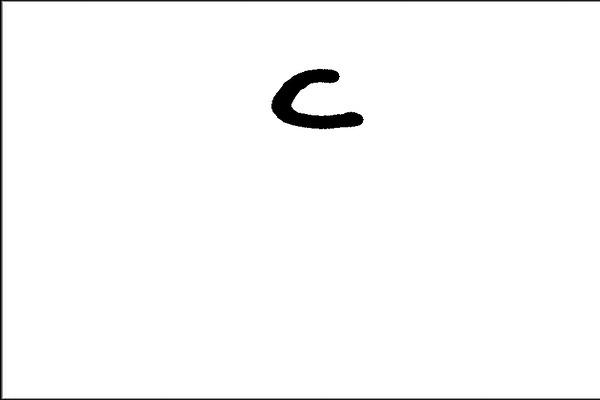C: (265, 62, 368, 134)
